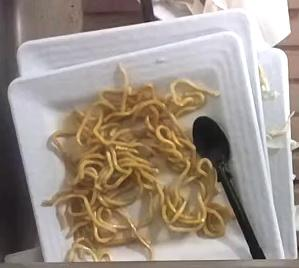asian_noodles: (43, 79, 232, 261)
